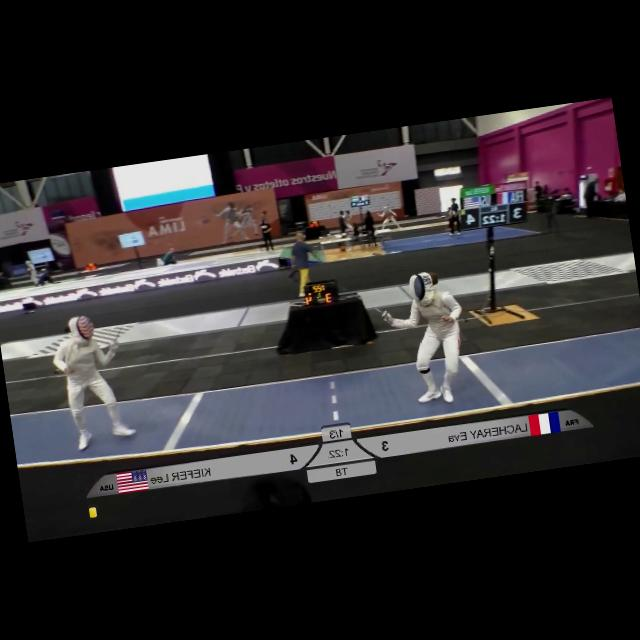blade: (322, 268, 388, 326), (105, 313, 132, 352)
